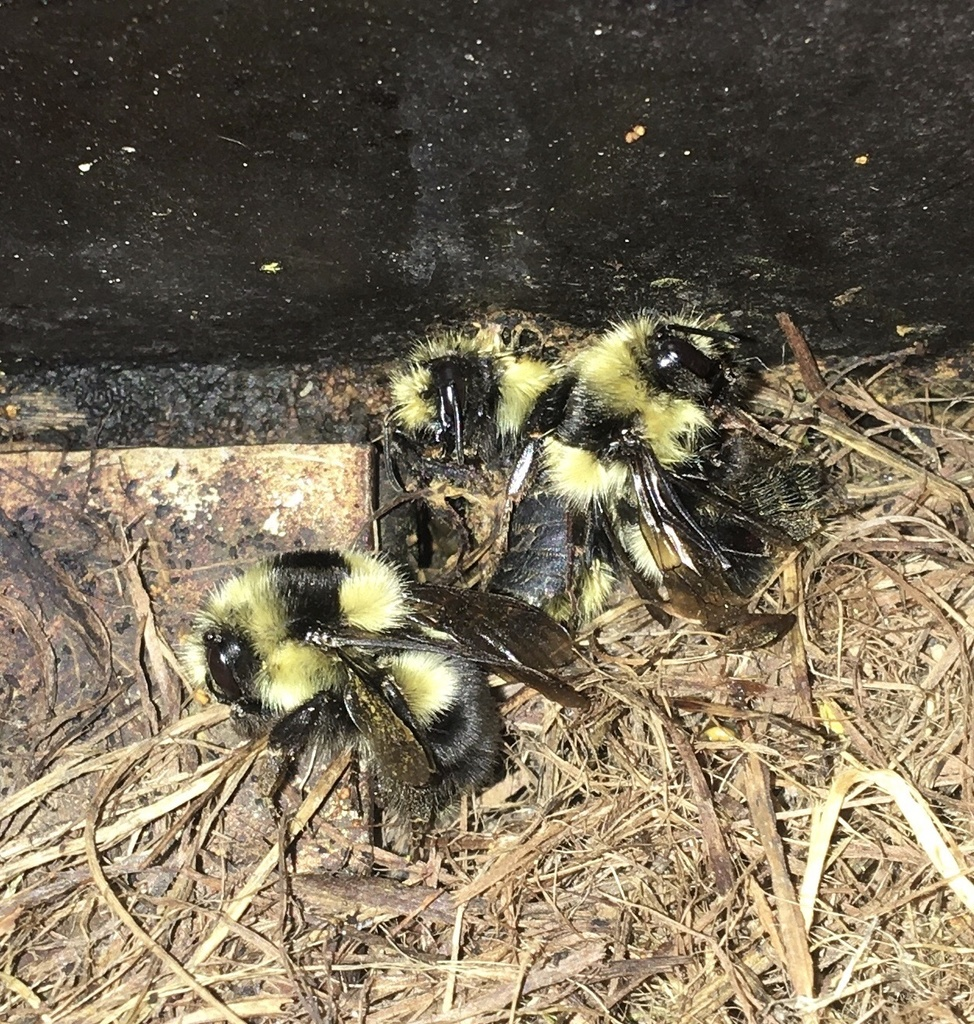bumblebee: (177, 545, 594, 834), (489, 301, 802, 619), (384, 313, 548, 595)
